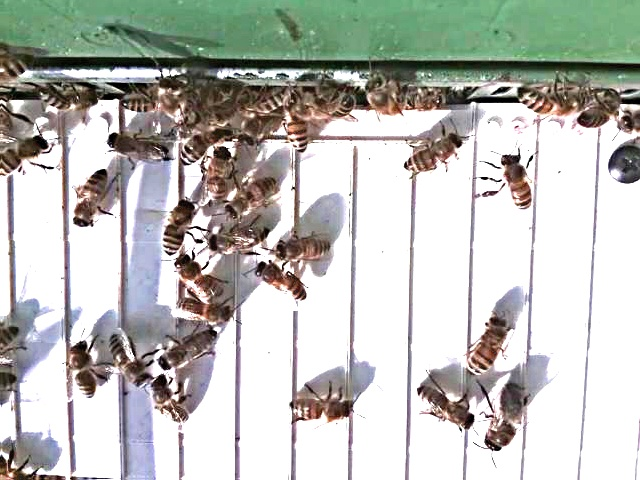Drone: (480, 379, 530, 457)
Worker: (412, 383, 477, 434), (397, 131, 466, 179), (462, 312, 509, 379), (154, 328, 218, 375), (69, 168, 110, 233), (104, 329, 148, 389), (222, 175, 276, 223), (173, 255, 226, 303), (494, 153, 535, 215), (159, 197, 198, 261), (516, 86, 584, 121), (252, 261, 306, 305), (286, 396, 355, 430), (148, 375, 190, 429), (204, 224, 271, 257), (104, 133, 169, 166), (271, 235, 334, 266), (66, 340, 98, 400), (170, 297, 235, 326), (204, 144, 232, 207), (283, 104, 311, 160)
